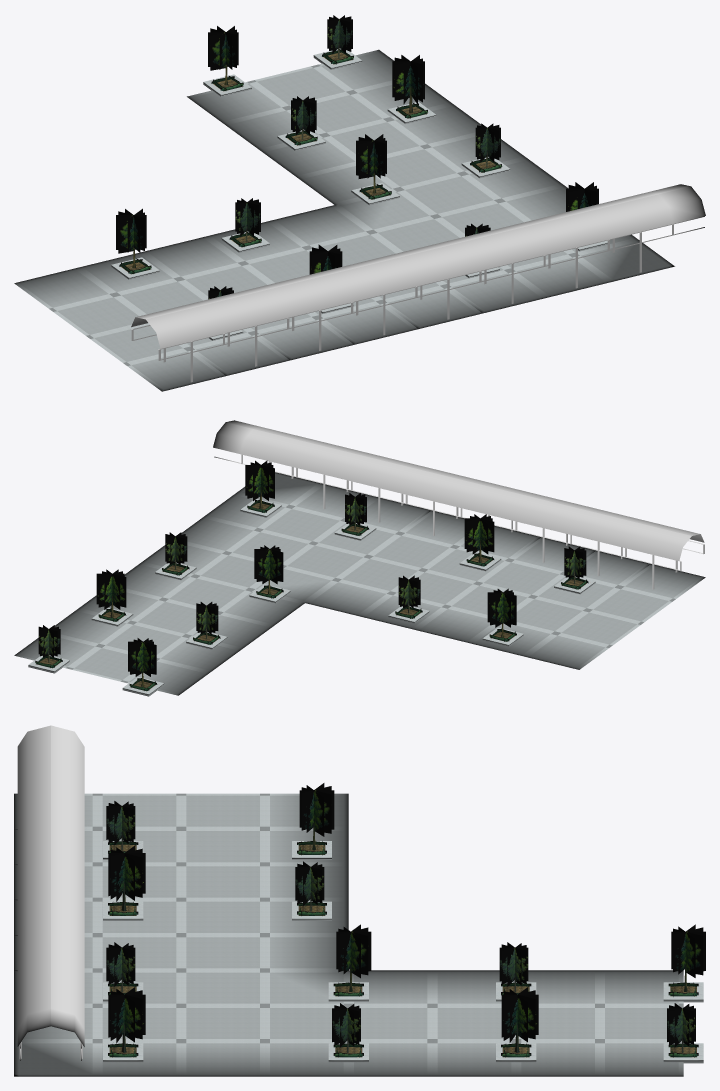
Rendered from KOMIKE_01.glb.
3 views of the same model, one above another, from view 1: azimuth 30°, elevation 25°; view 2: azimuth 150°, elevation 25°; view 3: azimuth 270°, elevation 25° (orthographic). The views are drawn at different scales.
Parts seen in each view (by area): view 1: body; view 2: body; view 3: body.
Part boxes in pixels (x1,y1,x2,y2): body: (14,15,705,391); body: (14,420,705,696); body: (14,725,705,1076).
Size of the model in its own units: 213 by 22.71 by 207.
Materials: 7 (6 with a texture image).
